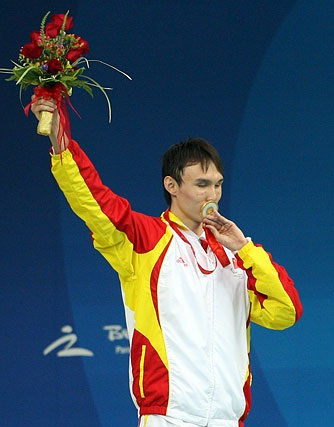face: (179, 158, 222, 222)
